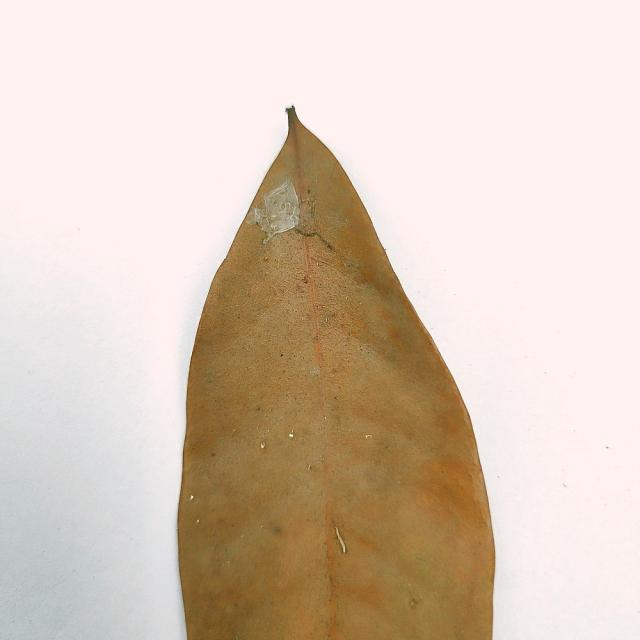Dry_Leaf-Lychee: (176, 107, 496, 639)
